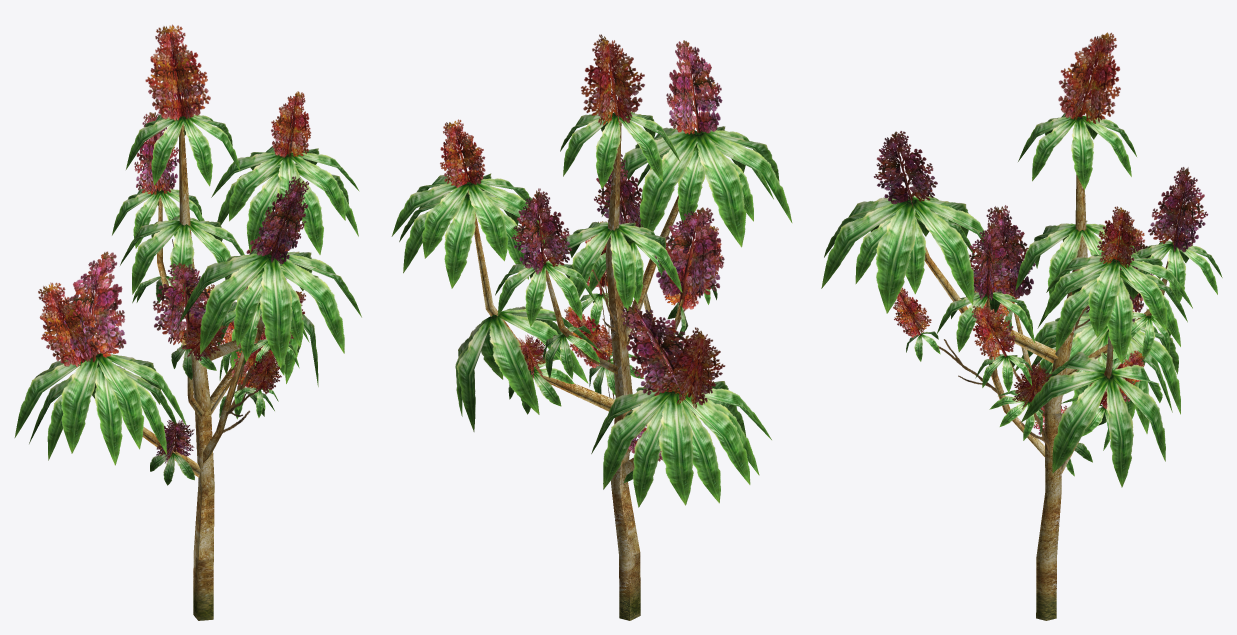
File: ph_tree2.glb
3 renders of one model, left to right at view 1: azimuth 30°, elevation 25°; view 2: azimuth 150°, elevation 25°; view 3: azimuth 270°, elevation 25°, orthographic. The views are drawn at different scales.
Visible parts, largest first — view 1: ph_tree2-col; view 2: ph_tree2-col; view 3: ph_tree2-col.
Boxes of the visible parts, bbox=[...] form: ph_tree2-col: bbox=[14, 24, 361, 620]; ph_tree2-col: bbox=[391, 34, 792, 620]; ph_tree2-col: bbox=[821, 32, 1222, 620].
Size of the model in its own units: 11.86 by 19.72 by 12.16.
2 materials, 2 textured.
